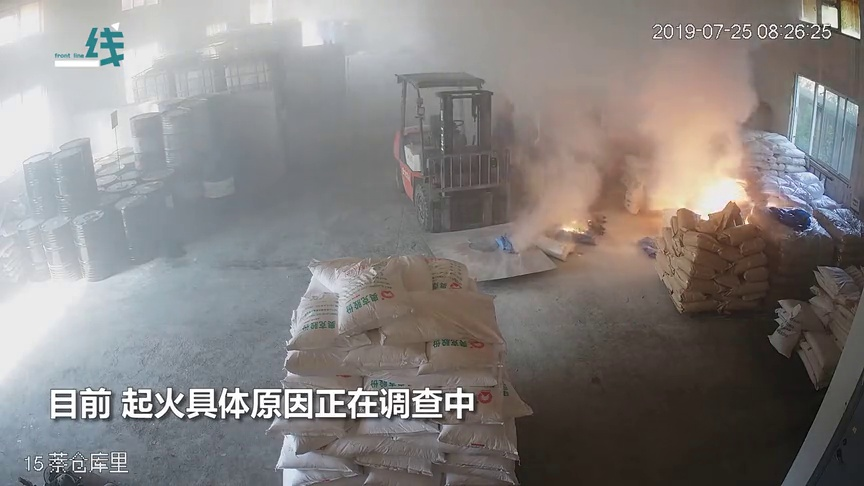fire: (667, 156, 750, 215)
smoke: (650, 39, 740, 178), (518, 107, 602, 215)
